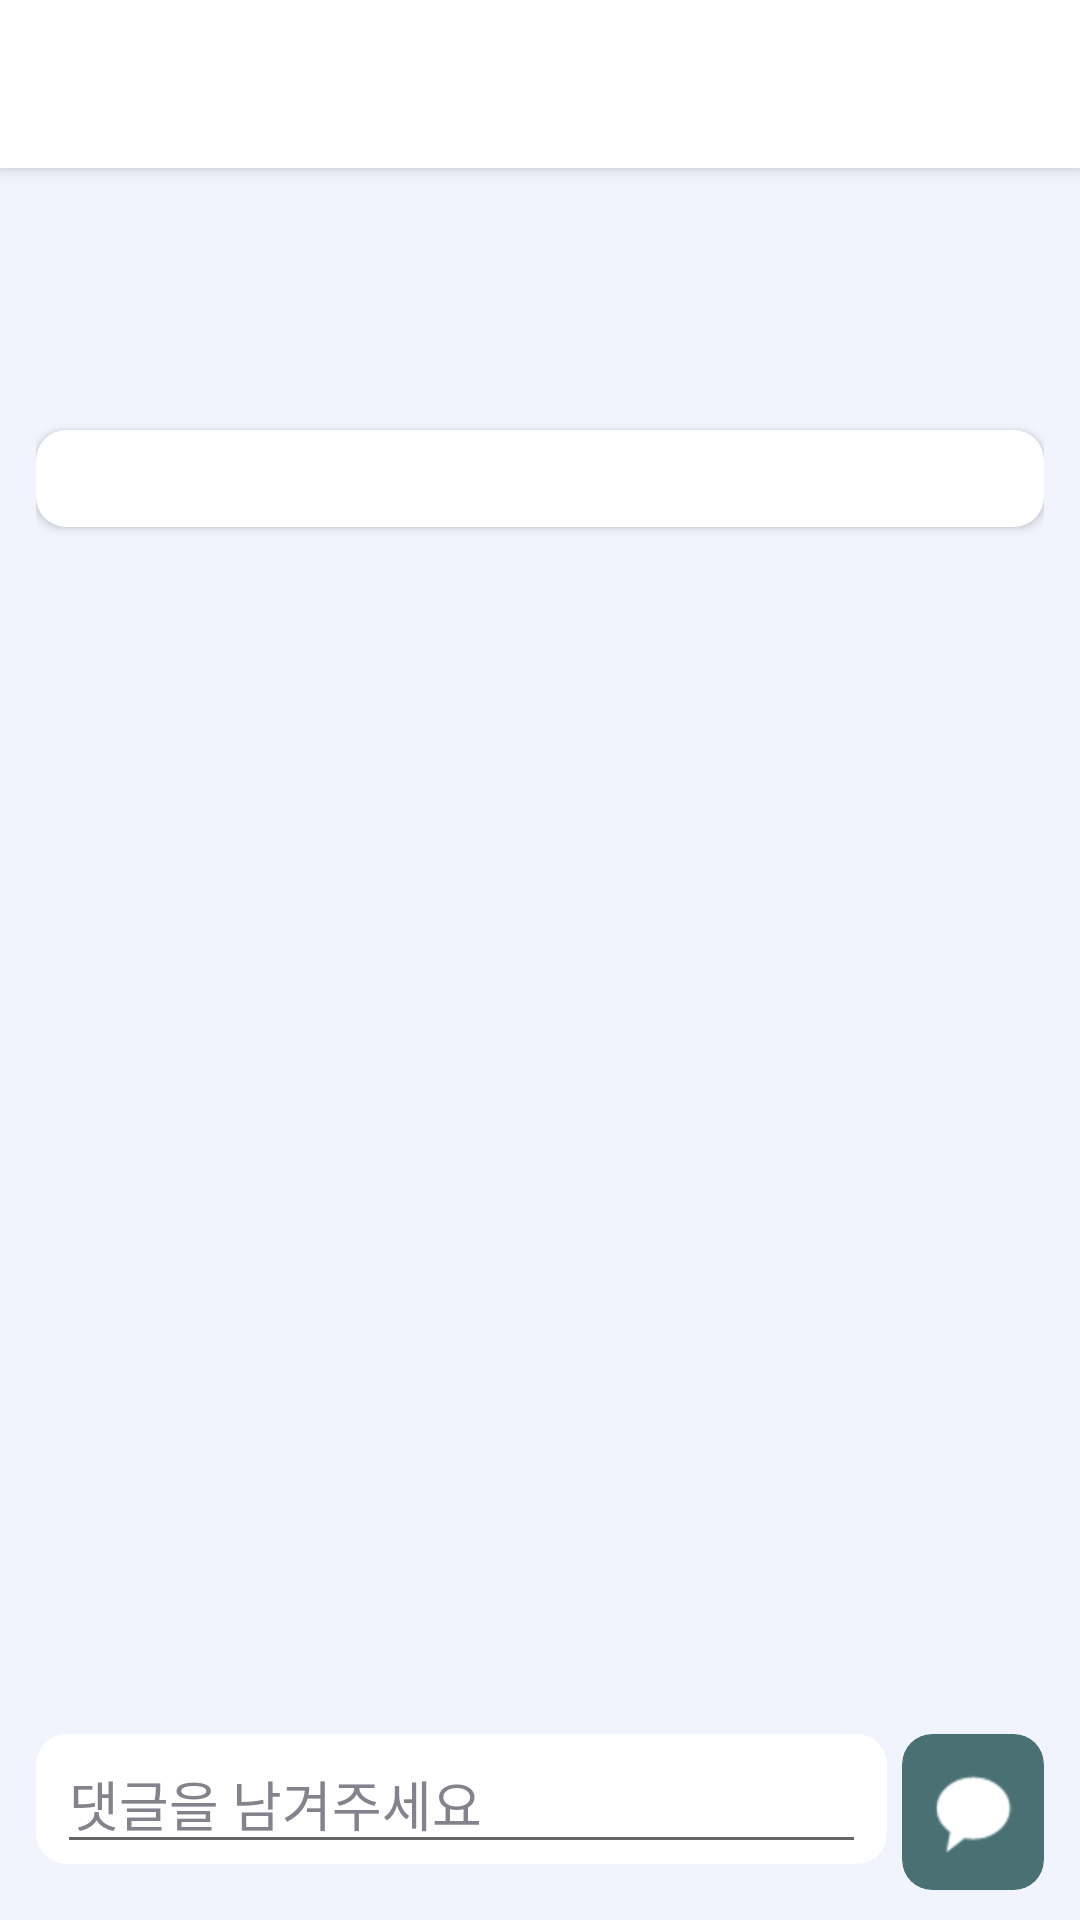

Screen size 1080px x 1920px. Icon name, then its center in pixels as point (x, y):
sym action chat: point (973, 1812)
